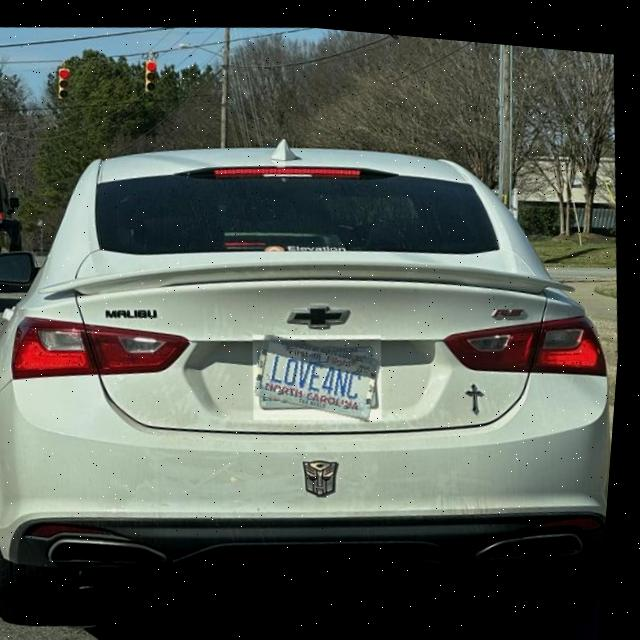LicensePlate: (259, 329, 386, 412)
